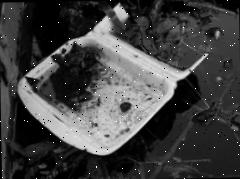general: (15, 1, 211, 157)
